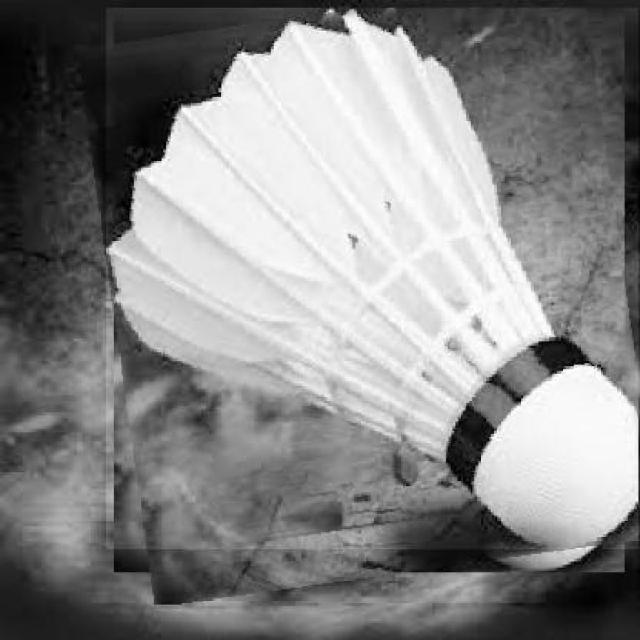Shuttlecock: (105, 7, 638, 548)
